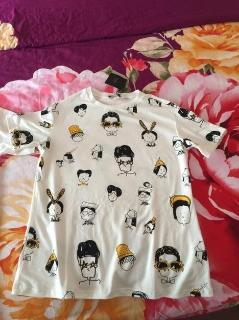short sleeve dress: (6, 86, 228, 299)
